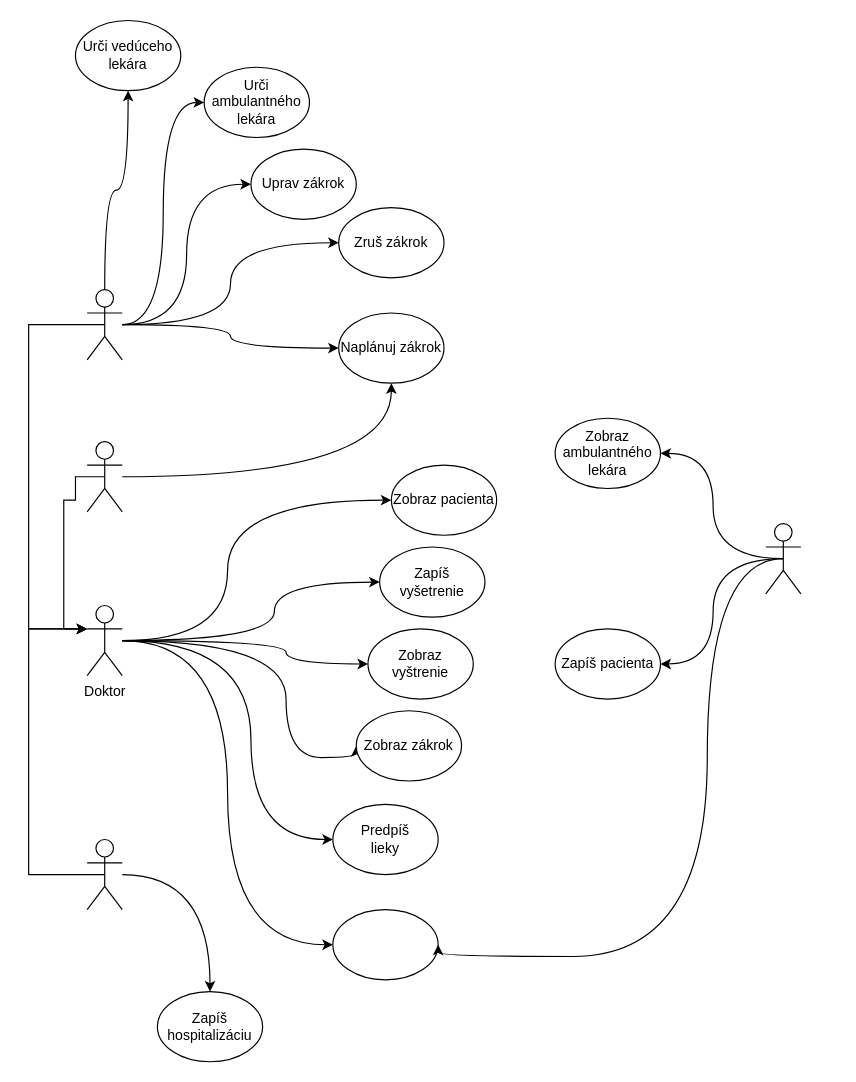
This 856x1082 diagram has some shape labels left out. The shapes that lost their labels are listed below. From the top down, each one's centre as x and y in pixels, then its label:
At [104,324]: "Primár".
At [104,476]: "Vedúci lekár".
At [783,558]: "Zdravotná sestra".
At [104,874]: "Ambulantný lekár".
At [385,944]: "Zobraz informácie o liekoch".
